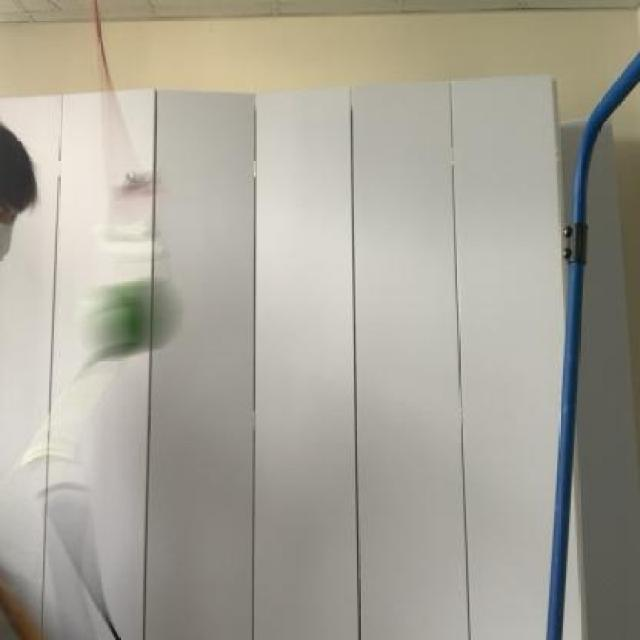baseball: (66, 273, 180, 352)
